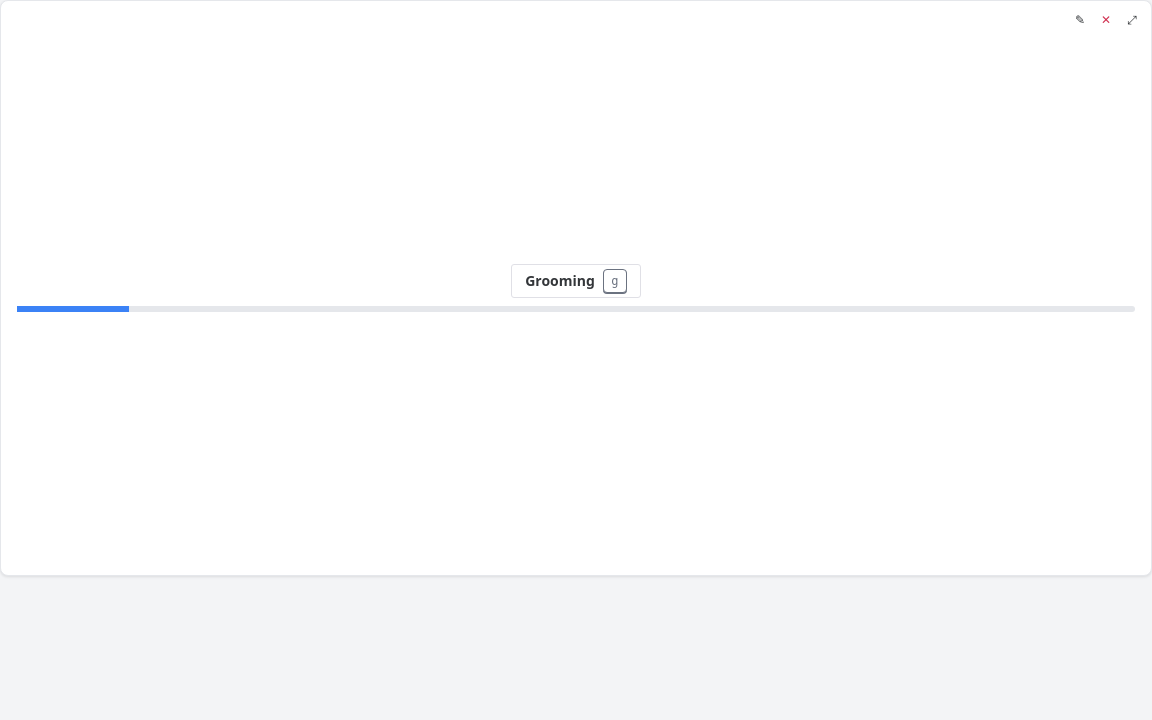
SubjectCard › asks for confirmation before removing a subject with recorded intervals
Click the button with class "subject-card__remove": (1106, 20) [1095, 9, 1117, 31]
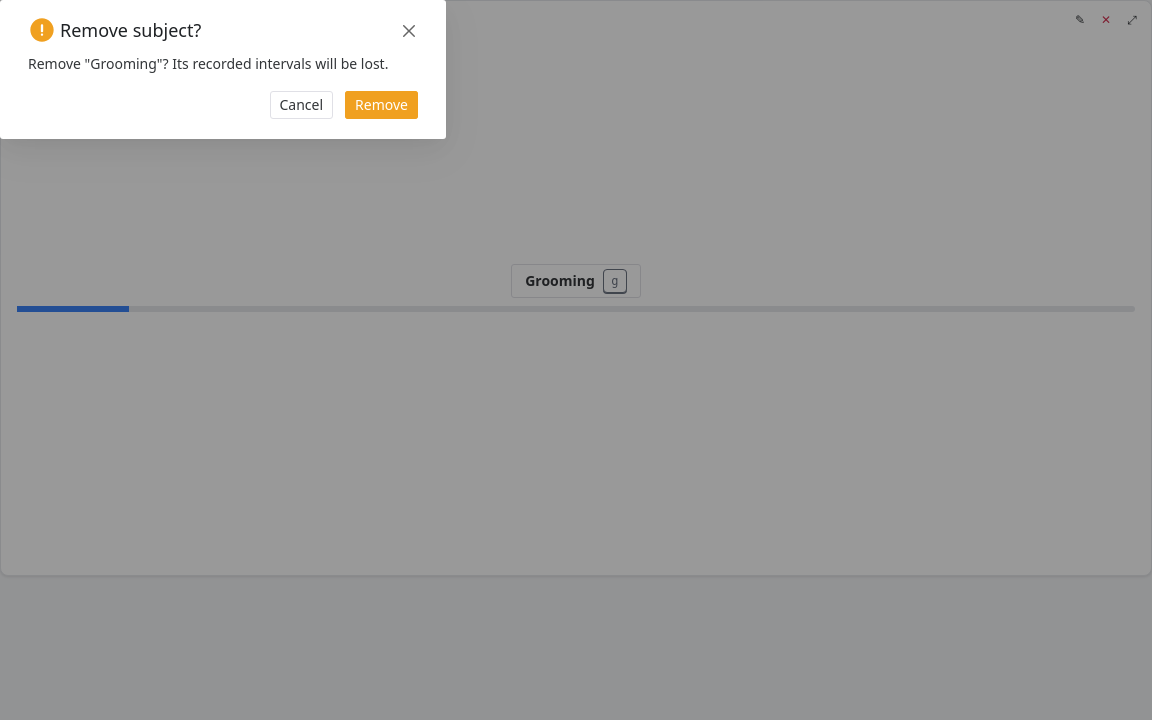
Expected: the button "Remove" is shown, [345, 91, 418, 119]
